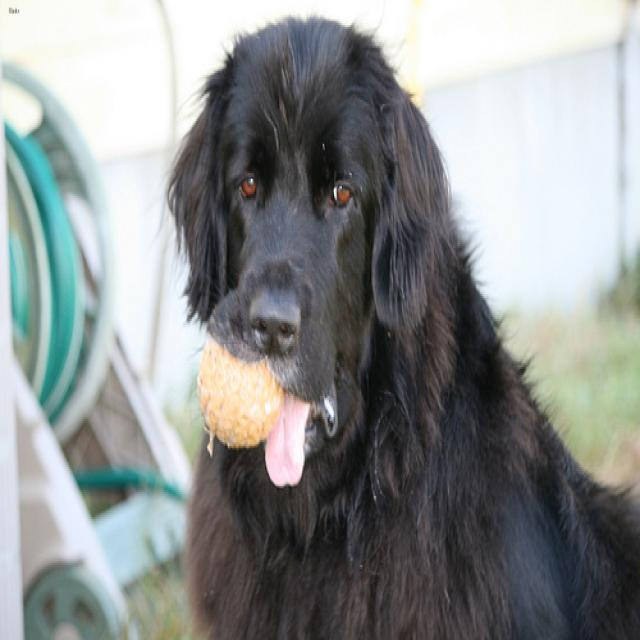dog-newfoundland: (155, 6, 637, 636)
